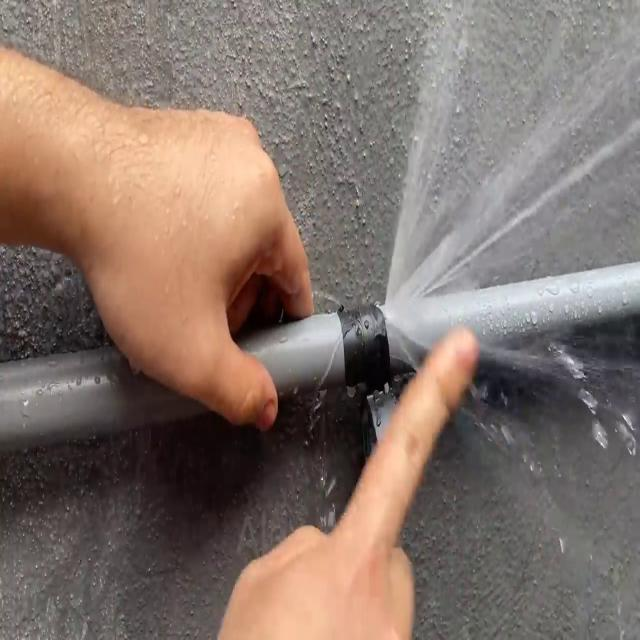leak: (380, 0, 640, 640)
